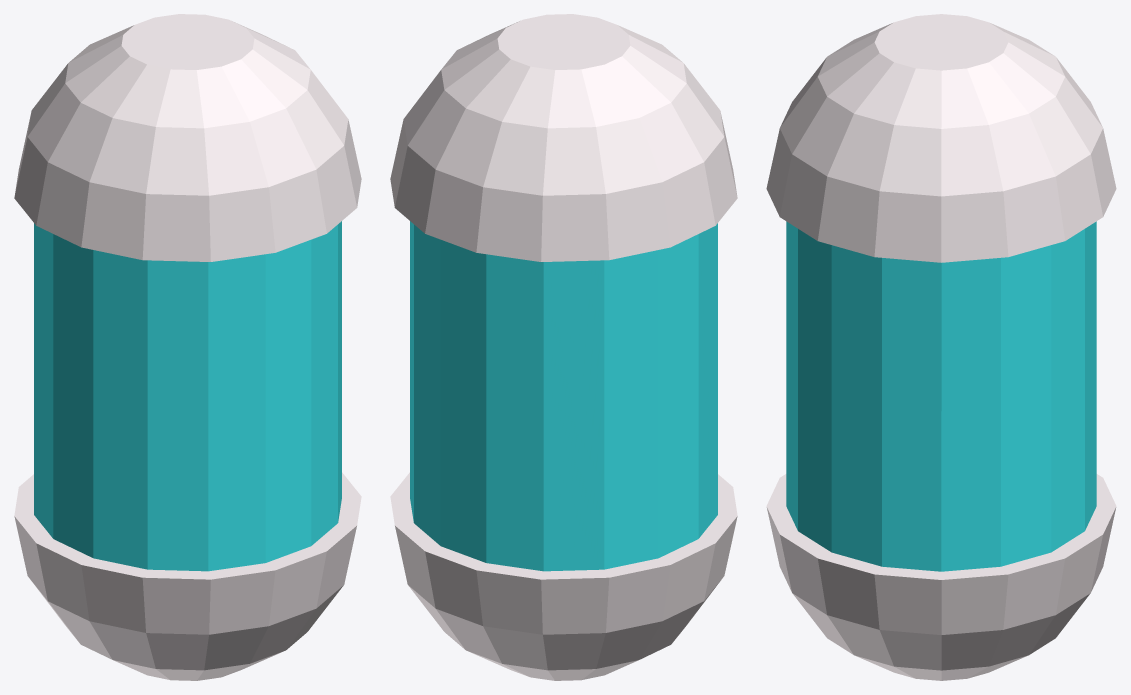
The model's file is Oxygen.fbx.
3 views of the same model, side by side, from view 1: azimuth 30°, elevation 25°; view 2: azimuth 150°, elevation 25°; view 3: azimuth 270°, elevation 25° (orthographic).
Visible parts, largest first — view 1: Glass, SideTop, SideBottom; view 2: Glass, SideTop, SideBottom; view 3: Glass, SideTop, SideBottom.
Boxes of the visible parts, <box> form: Glass: <box>34,221,341,571</box>; SideTop: <box>14,14,361,261</box>; SideBottom: <box>14,472,361,680</box>; Glass: <box>410,221,717,571</box>; SideTop: <box>390,14,737,261</box>; SideBottom: <box>390,472,737,680</box>; Glass: <box>786,221,1096,571</box>; SideTop: <box>766,14,1116,262</box>; SideBottom: <box>766,474,1116,680</box>.
Size of the model in its own units: 121 by 233 by 121.
